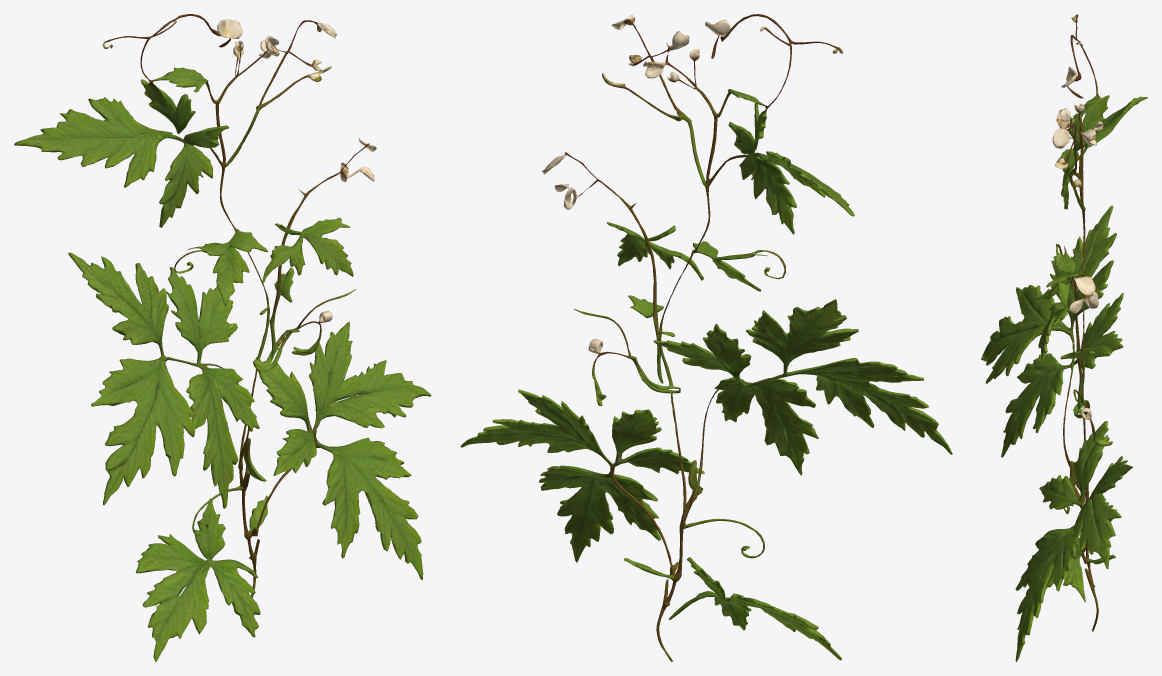
File: ClematisVine.glb
The picture shows the model from 3 angles, left to right: view 1: azimuth 30°, elevation 25°; view 2: azimuth 150°, elevation 25°; view 3: azimuth 270°, elevation 25°; orthographic projection. The views are drawn at different scales.
Visible parts, largest first — view 1: Mesh_0; view 2: Mesh_0; view 3: Mesh_0.
Boxes of the visible parts, bbox=[...] form: Mesh_0: bbox=[14, 14, 431, 661]; Mesh_0: bbox=[460, 14, 952, 661]; Mesh_0: bbox=[981, 14, 1147, 661].
Size of the model in its own units: 0.6672 by 1 by 0.2694.
1 material, 1 textured.
